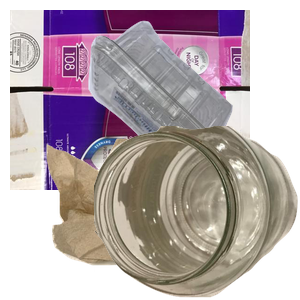cardboard: (10, 10, 250, 190)
glass: (94, 126, 300, 300)
plastic: (86, 18, 300, 171)
trash: (44, 136, 277, 300)
